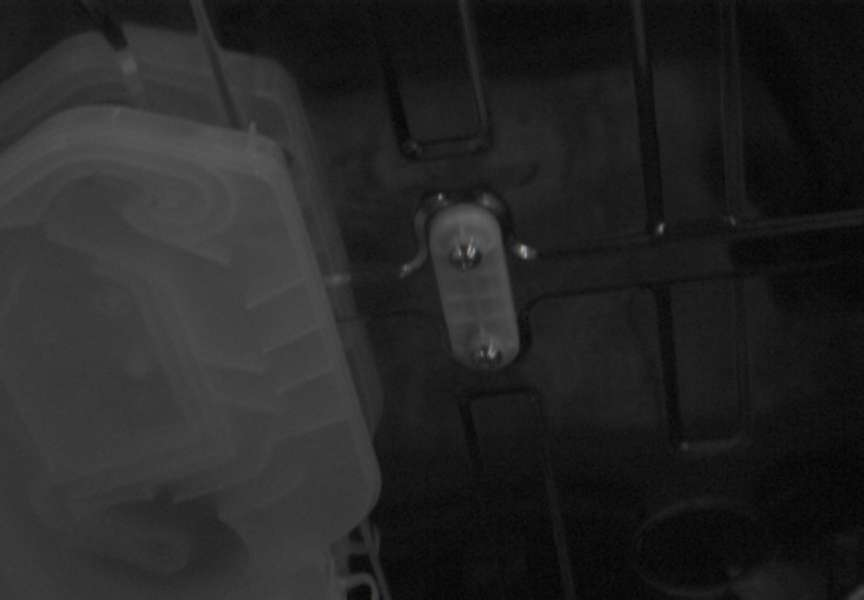screw: (449, 240, 483, 272), (471, 341, 503, 370)
